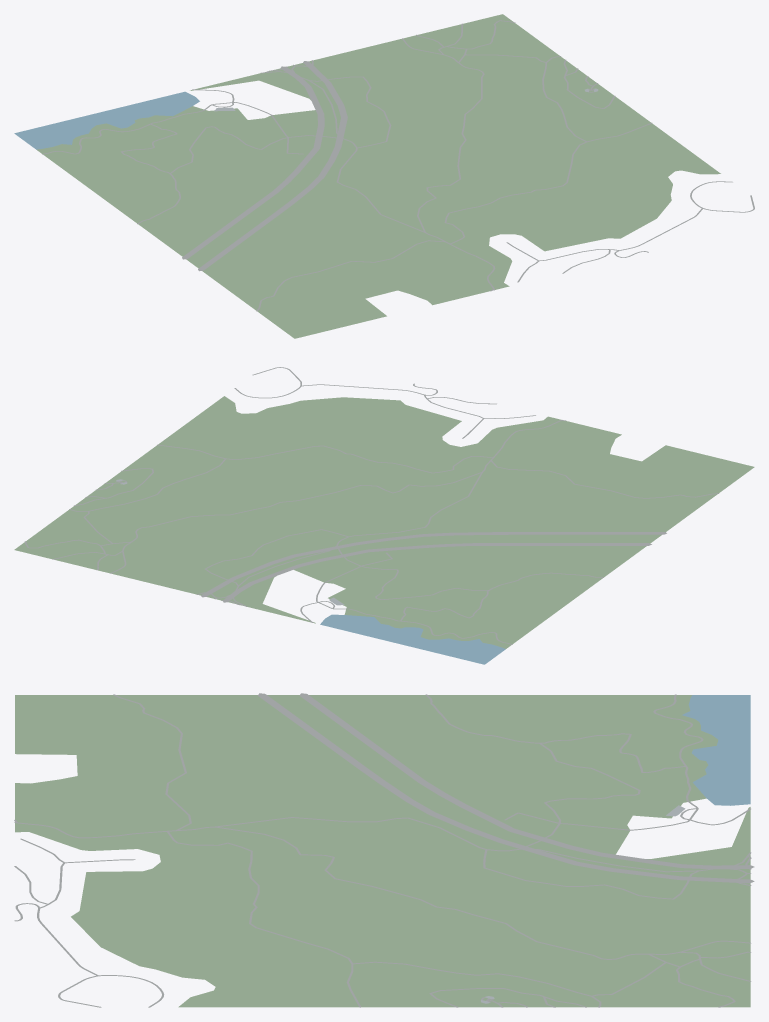
The model's file is 14_4-known-coarse.glb.
3 views of the same model, one above another, from view 1: azimuth 30°, elevation 25°; view 2: azimuth 150°, elevation 25°; view 3: azimuth 270°, elevation 25° (orthographic). The views are drawn at different scales.
Bounding box in the file's own units: 1007 × 0.15 × 1002.
